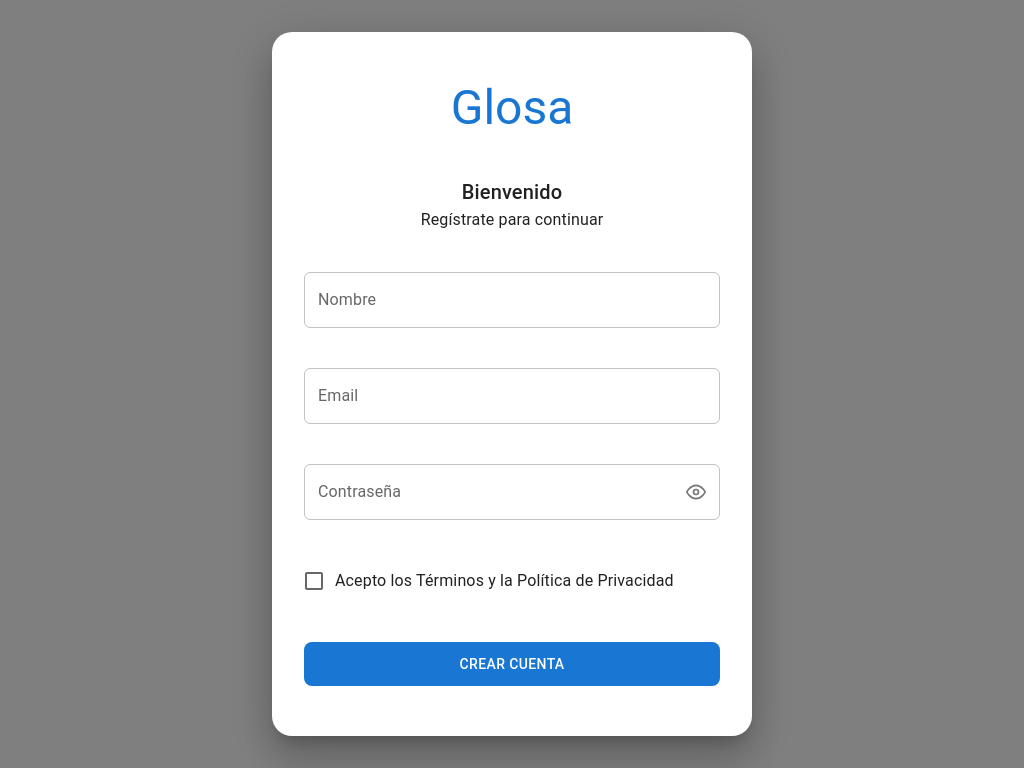
Test: Given the register page › When the password meets all the requirements › Then the list collapses into a single confirmation
Type "Secreta1!" into the password field labelled "Contraseña" at (485, 492), box [304, 464, 666, 520]
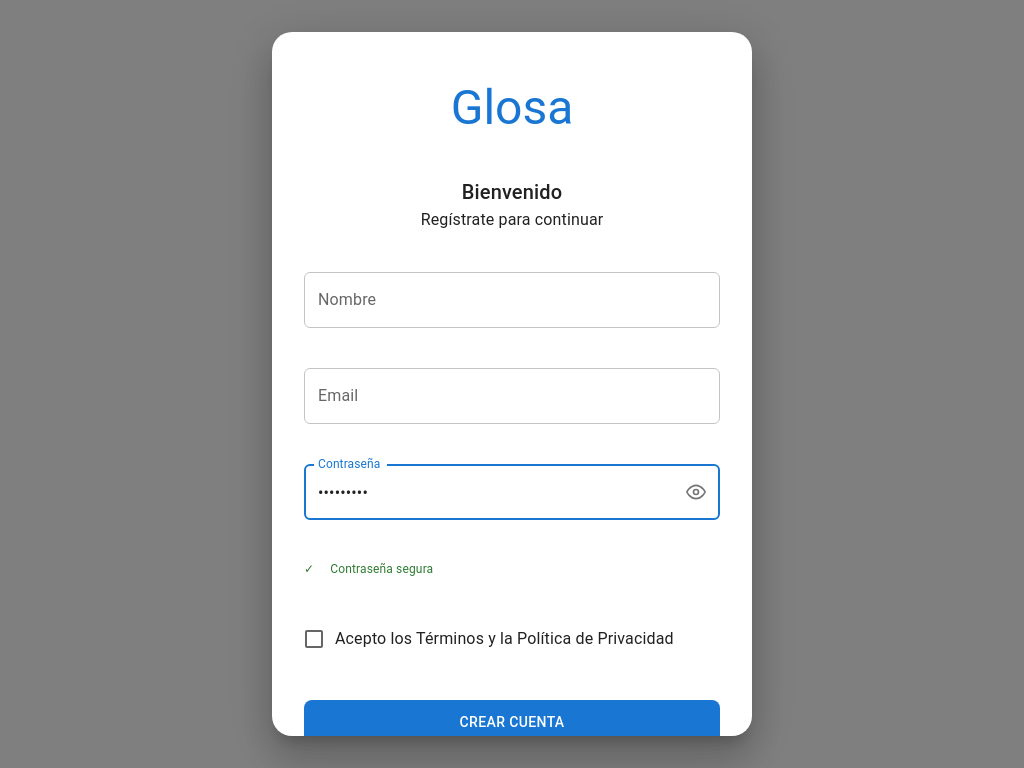
Now the message shows "Contraseña segura", box [330, 562, 433, 576]
